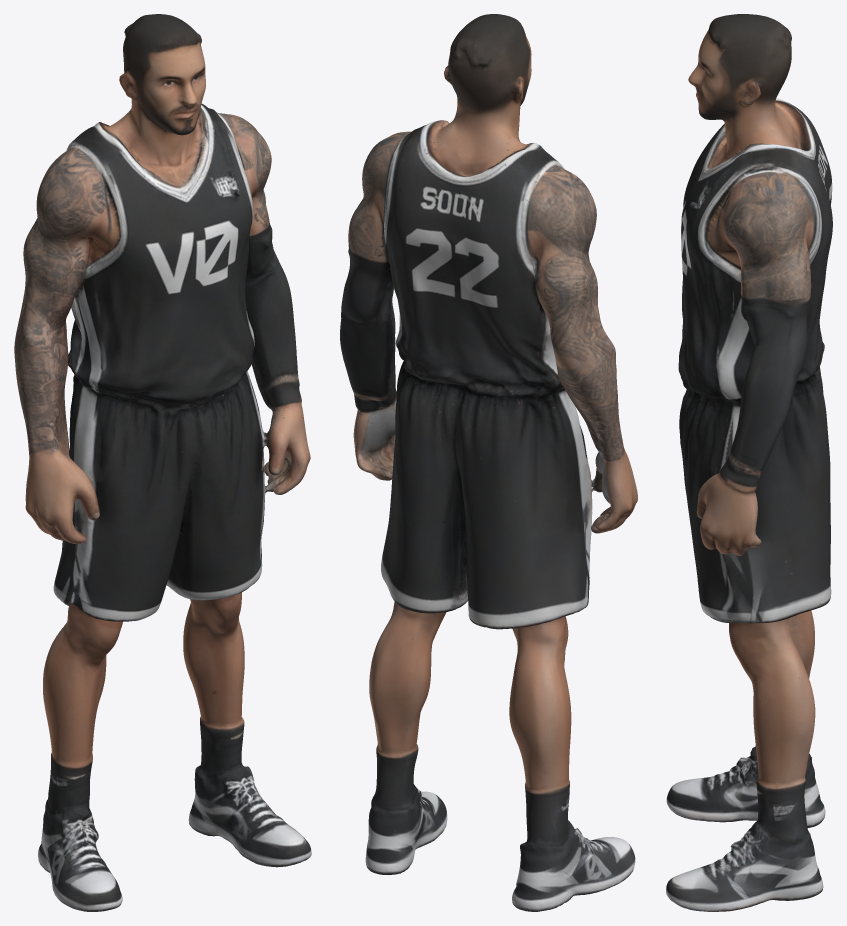
The model's file is v0_stylized_basketball_team_player_3d_character.glb.
The picture shows the model from 3 angles, left to right: view 1: azimuth 30°, elevation 25°; view 2: azimuth 150°, elevation 25°; view 3: azimuth 270°, elevation 25°; orthographic projection.
Parts seen in each view (by area): view 1: Object_4, Object_6, Object_5; view 2: Object_5, Object_4, Object_6; view 3: Object_4, Object_5, Object_6.
Boxes of the visible parts, x1,y1,x2,y2 form: Object_4: (14, 118, 311, 911); Object_6: (22, 16, 308, 904); Object_5: (15, 14, 310, 876); Object_5: (340, 14, 613, 911); Object_4: (340, 209, 637, 911); Object_6: (353, 17, 636, 892); Object_4: (666, 127, 823, 911); Object_5: (700, 14, 832, 900); Object_6: (684, 14, 762, 911).
Size of the model in its own units: 0.6803 by 2 by 0.3607.
1 material, 1 textured.
